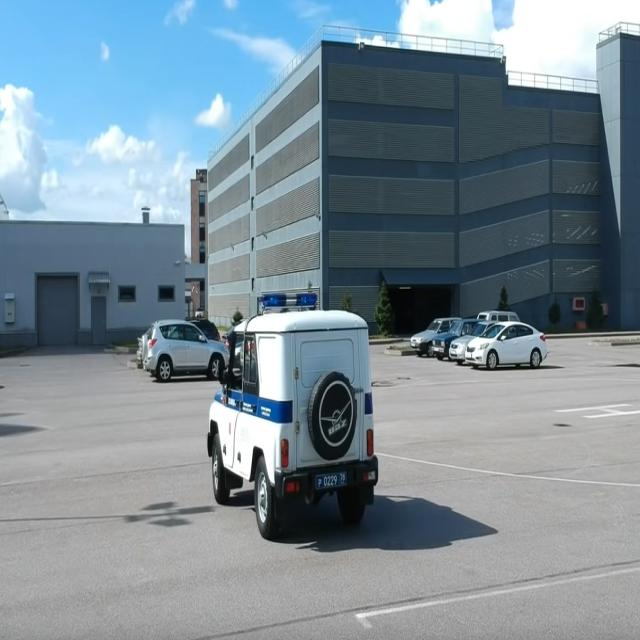non emergency car: (143, 313, 236, 385), (463, 319, 551, 374), (433, 318, 484, 365), (451, 318, 498, 368), (411, 313, 453, 363)
police car: (205, 286, 382, 550)
